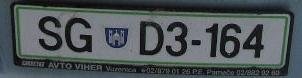-: (191, 36, 205, 48)
1: (207, 21, 219, 60)
3: (167, 19, 189, 57)
4: (244, 24, 265, 60)
6: (222, 23, 240, 60)
D: (139, 20, 163, 58)
G: (65, 15, 95, 55)
S: (38, 14, 64, 54)
